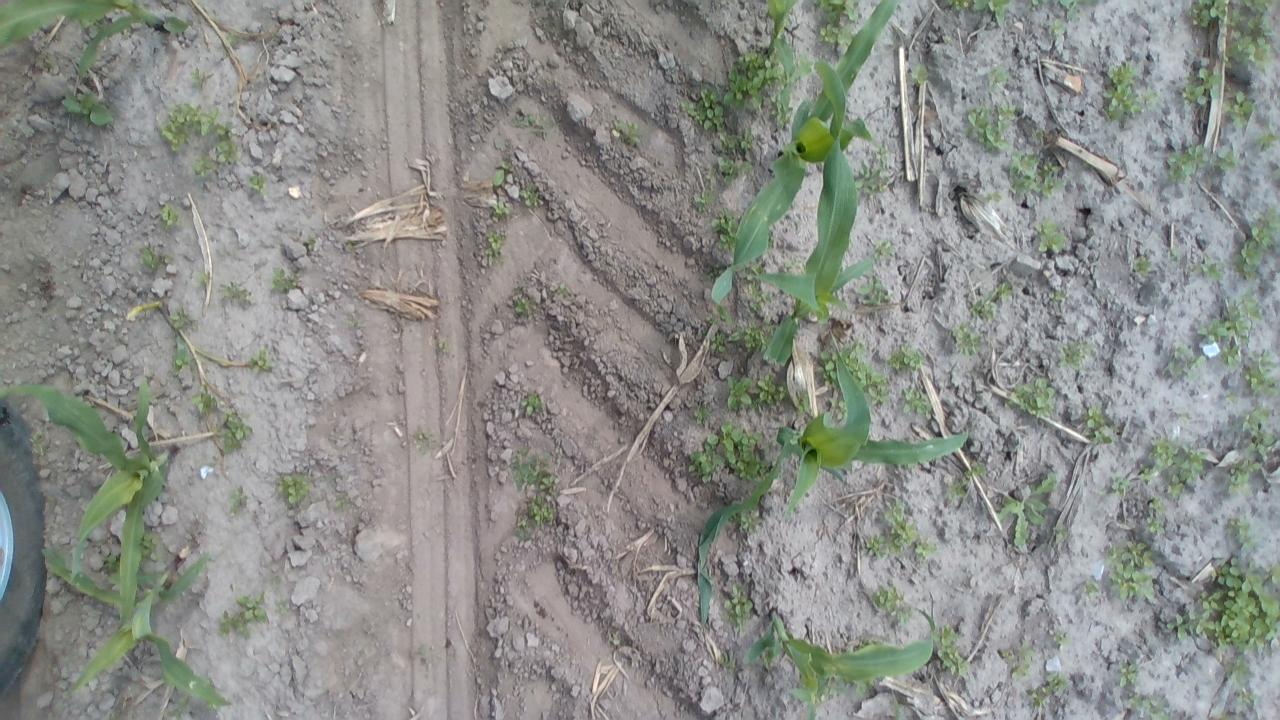Maize: (698, 330, 969, 630), (710, 1, 900, 319), (1, 377, 178, 622), (755, 59, 878, 371), (42, 540, 228, 706), (740, 609, 936, 719), (0, 0, 188, 78), (767, 2, 812, 120), (1226, 650, 1258, 714), (124, 298, 172, 324)
Weeds: (1214, 556, 1278, 644), (996, 470, 1058, 550), (1156, 587, 1224, 639), (1011, 148, 1065, 206), (163, 100, 217, 148), (727, 50, 770, 108), (968, 100, 1016, 148), (1181, 57, 1221, 108), (731, 430, 770, 481), (682, 88, 725, 134), (1224, 24, 1275, 62), (61, 88, 111, 126), (998, 642, 1038, 682), (1176, 442, 1220, 475), (1162, 348, 1207, 380), (1102, 84, 1142, 120), (884, 501, 916, 545), (1166, 146, 1210, 178), (1224, 299, 1260, 338), (1244, 353, 1276, 396), (1227, 0, 1274, 29), (1016, 379, 1056, 412), (218, 411, 250, 452), (1227, 459, 1263, 495), (1126, 690, 1172, 718), (1248, 208, 1278, 248), (723, 585, 752, 626), (1232, 510, 1260, 552), (718, 156, 754, 186), (1108, 562, 1136, 600), (1193, 0, 1230, 28), (1085, 404, 1113, 440), (1036, 222, 1066, 255), (691, 449, 724, 478), (860, 160, 886, 196), (276, 474, 306, 505), (972, 0, 1010, 24), (729, 324, 764, 350), (878, 580, 904, 615), (1234, 242, 1262, 274), (708, 421, 739, 449), (937, 647, 969, 674), (726, 375, 751, 409), (954, 324, 982, 354), (757, 375, 784, 406), (616, 116, 644, 144), (1149, 432, 1177, 460), (528, 494, 554, 524), (1108, 62, 1138, 88), (514, 456, 538, 488), (886, 347, 924, 367), (1059, 340, 1088, 366), (220, 282, 252, 305), (218, 612, 248, 636), (1119, 540, 1147, 565), (1198, 318, 1224, 344), (269, 268, 293, 296), (1212, 141, 1236, 169), (709, 131, 742, 151), (935, 624, 965, 646), (1248, 431, 1274, 456), (904, 390, 929, 415), (864, 534, 890, 558), (973, 296, 996, 322), (1165, 470, 1188, 496), (238, 596, 264, 618), (226, 486, 246, 514), (520, 187, 544, 209), (213, 137, 235, 161), (1257, 130, 1279, 154), (196, 391, 216, 417), (193, 154, 216, 176), (875, 239, 899, 259), (190, 69, 213, 89), (736, 128, 756, 151), (1244, 409, 1264, 432), (913, 542, 937, 561), (869, 383, 889, 405), (1200, 260, 1224, 278), (249, 354, 269, 375), (841, 0, 860, 22), (1046, 674, 1068, 693), (144, 534, 160, 560), (494, 161, 510, 187), (1234, 93, 1251, 117), (167, 696, 187, 716), (849, 346, 869, 366), (715, 218, 732, 241), (172, 310, 194, 327), (996, 275, 1013, 297), (161, 207, 177, 230), (516, 518, 532, 541), (245, 174, 268, 190), (140, 248, 158, 268), (512, 297, 532, 315), (1220, 344, 1240, 362), (1137, 461, 1155, 481), (1109, 473, 1127, 492), (98, 550, 115, 570), (740, 516, 760, 533), (1120, 666, 1136, 687), (1146, 514, 1164, 532), (709, 333, 726, 352), (836, 22, 852, 42), (817, 351, 833, 371), (822, 22, 836, 44), (1047, 19, 1063, 38), (947, 0, 970, 13), (175, 348, 191, 366), (522, 396, 540, 412), (692, 408, 708, 426), (1082, 578, 1100, 594), (488, 234, 502, 254), (1154, 456, 1174, 470), (491, 202, 509, 217), (794, 396, 810, 412), (992, 66, 1008, 82), (720, 649, 733, 668), (693, 193, 706, 212), (1132, 258, 1148, 273), (607, 628, 621, 644), (218, 122, 232, 138), (917, 68, 931, 84), (196, 270, 211, 284), (1054, 631, 1068, 646), (542, 474, 556, 488), (222, 36, 238, 46), (758, 290, 772, 301), (749, 300, 761, 312), (1048, 292, 1060, 301)
